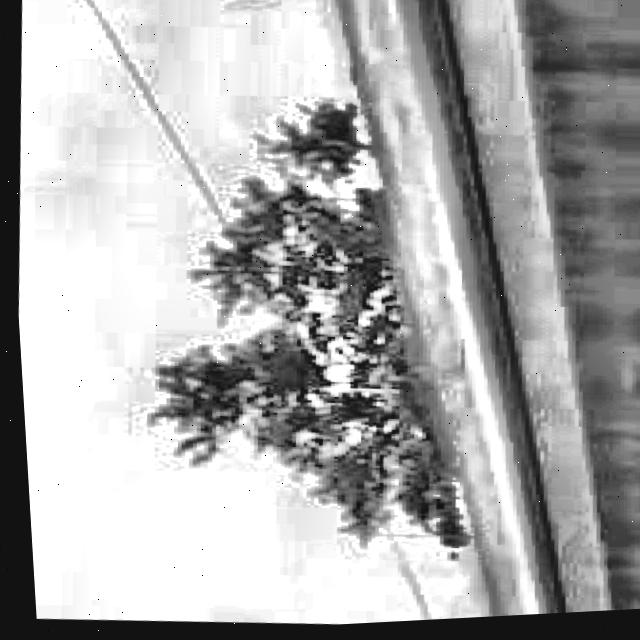Kereta: (122, 0, 640, 601), (422, 523, 640, 624)
